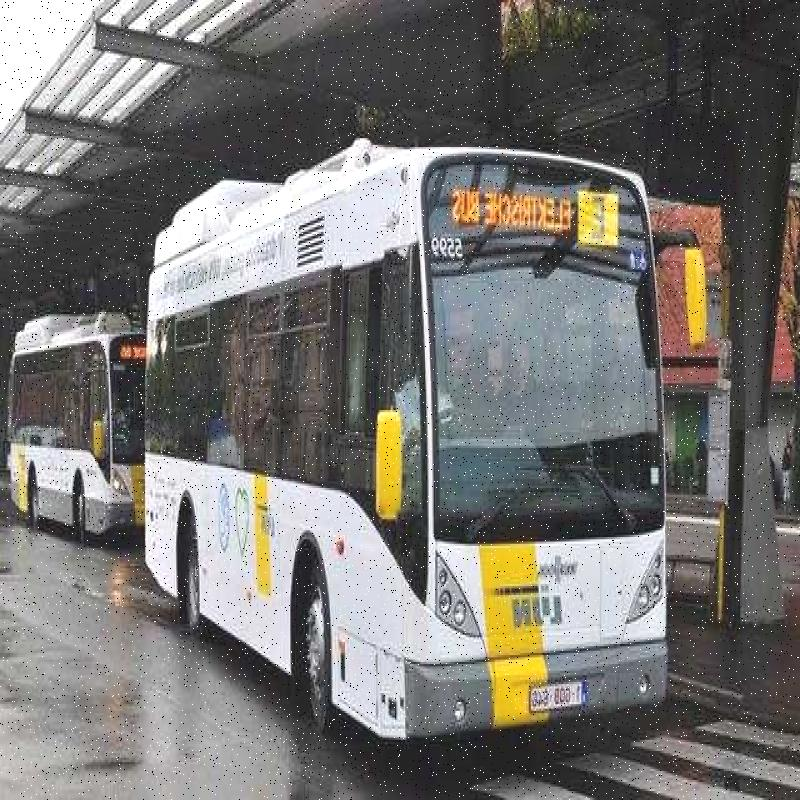bus: (140, 102, 728, 762), (7, 285, 136, 559)
